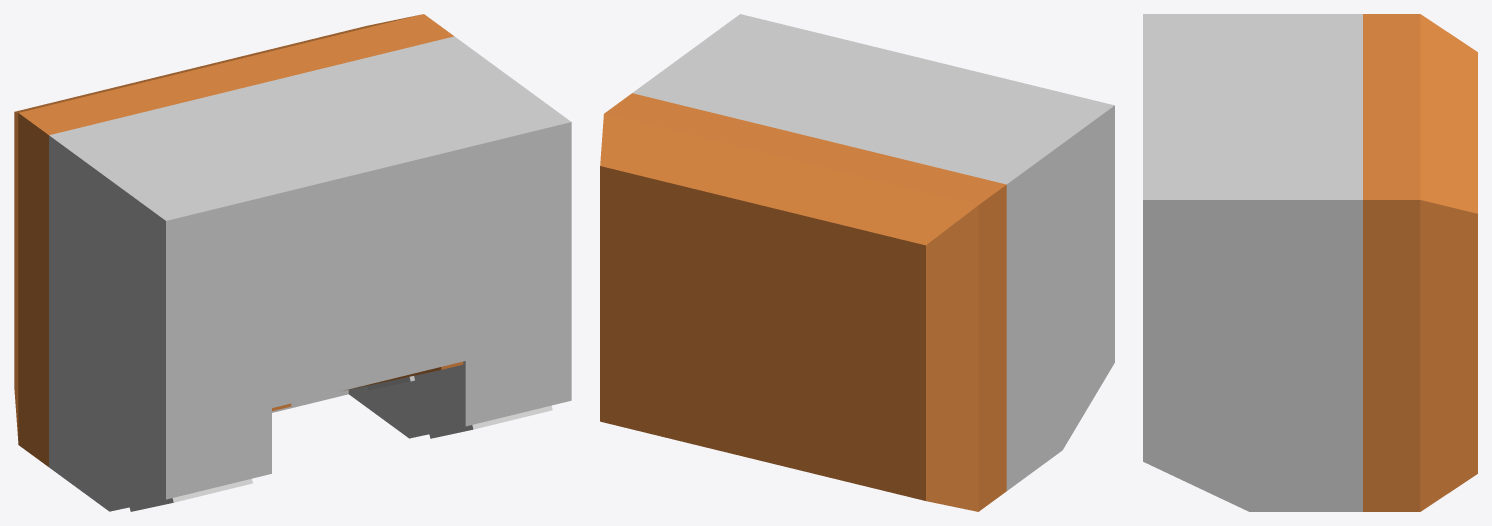
Rendered from cnc_horizontal_machining_center_3_state_1.dae.
3 renders of one model, left to right at view 1: azimuth 30°, elevation 25°; view 2: azimuth 150°, elevation 25°; view 3: azimuth 270°, elevation 25°, orthographic. The views are drawn at different scales.
Visible parts, largest first — view 1: coords_ME_ID11_MA_material_8, coords_ME_ID3_MA_material_10, coords_ME_ID27_MA_material_8, coords_ME_ID67_MA_material_8; view 2: coords_ME_ID3_MA_material_10, coords_ME_ID11_MA_material_8; view 3: coords_ME_ID11_MA_material_8, coords_ME_ID3_MA_material_10.
Boxes of the visible parts, left/top/right/bottom form: coords_ME_ID11_MA_material_8: left=49, top=36, right=571, bottom=511; coords_ME_ID3_MA_material_10: left=14, top=14, right=453, bottom=466; coords_ME_ID27_MA_material_8: left=129, top=478, right=252, bottom=511; coords_ME_ID67_MA_material_8: left=429, top=405, right=552, bottom=438; coords_ME_ID3_MA_material_10: left=600, top=93, right=1006, bottom=511; coords_ME_ID11_MA_material_8: left=632, top=14, right=1114, bottom=490; coords_ME_ID11_MA_material_8: left=1143, top=14, right=1362, bottom=511; coords_ME_ID3_MA_material_10: left=1363, top=14, right=1477, bottom=511.
Bounding box in the file's own units: 39.84 × 31.61 × 30.31.
